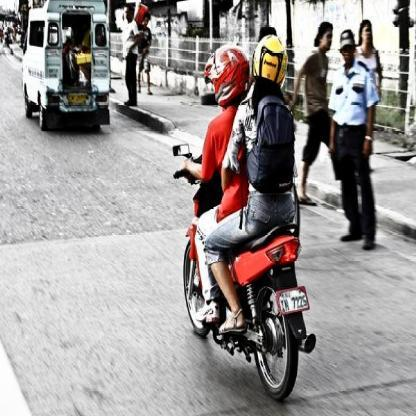helmet: (203, 44, 251, 108), (252, 34, 288, 90)
nohelmet: (315, 20, 334, 53), (359, 19, 374, 46)
